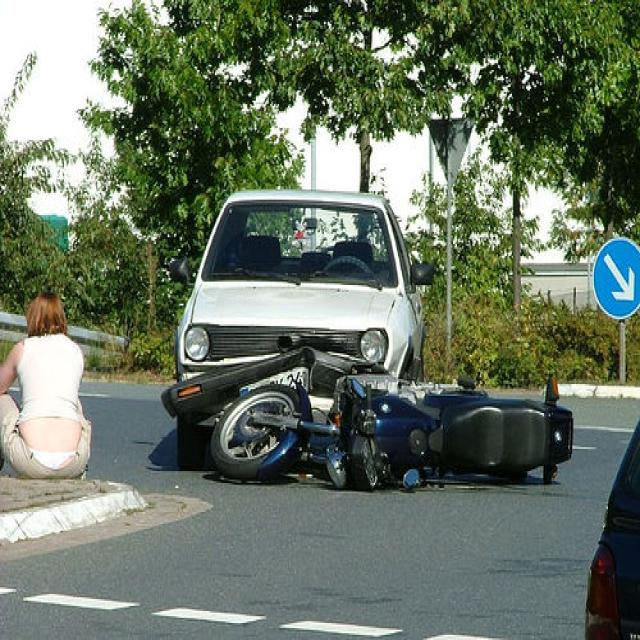motor: (208, 373, 573, 492)
